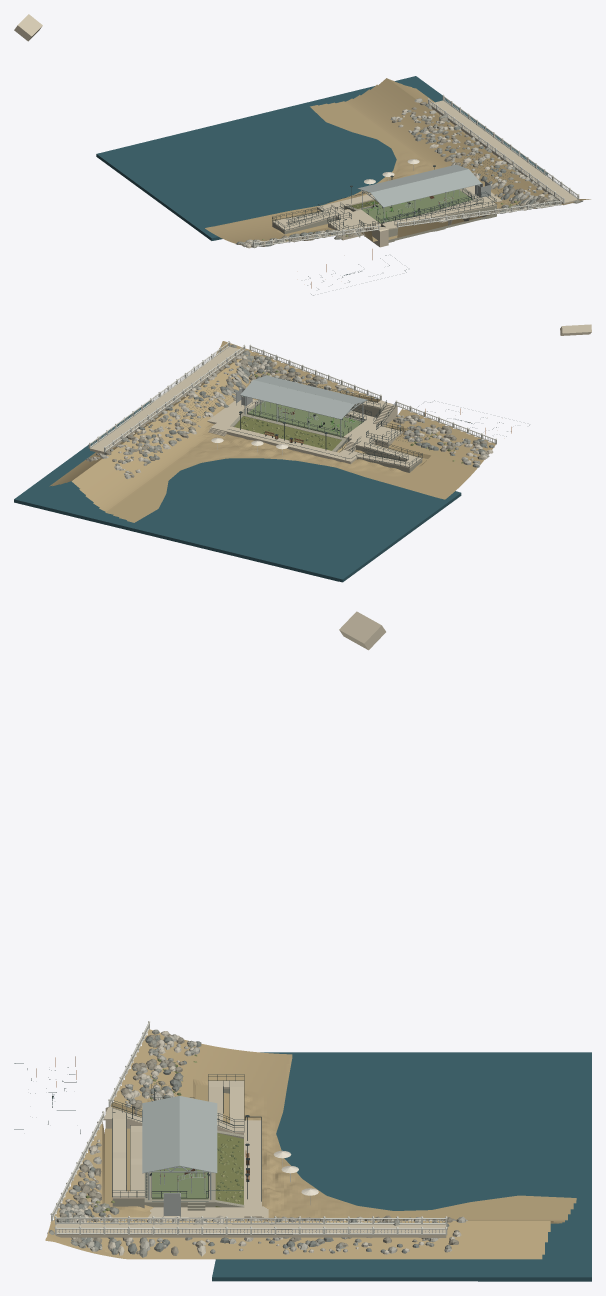
File: location1.glb
3 views of the same model, one above another, from view 1: azimuth 30°, elevation 25°; view 2: azimuth 150°, elevation 25°; view 3: azimuth 270°, elevation 25° (orthographic). The views are drawn at different scales.
Visible parts, largest first — view 1: Море | спокойная поверхность, Рельеф | исправленная береговая се, Каменная наброска | серо-бежевые в, Plane, Мол | длина 55.19 м | +4.00, Ограждения и двойные поручни | про, Спортивная площадка | 22 x 8 м | +2.00, Белая балюстрада | проем общего вх, Белая балюстрада | проем общего, Белая балюстрада | проем общего в, В | прогулочная дорожка | 32 x 2.5 м, А | общая входная площадка; view 2: Море | спокойная поверхность, Рельеф | исправленная береговая се, Каменная наброска | серо-бежевые в, Plane, Мол | длина 55.19 м | +4.00, В | прогулочная дорожка | 32 x 2.5 м, Спортивная площадка | 22 x 8 м | +2.00, Ограждения и двойные поручни | про, Озелененный откос | плавный перехо, Белая балюстрада | проем общего вх, Море | береговая линия по снимку, Белая балюстрада | проем общего (+6 smaller); view 3: Море | спокойная поверхность, Рельеф | исправленная береговая се, Каменная наброска | серо-бежевые в, Plane, Мол | длина 55.19 м | +4.00, В | прогулочная дорожка | 32 x 2.5 м, Белая балюстрада | проем общего в, Белая балюстрада | проем общего, Озелененный откос | плавный перехо, Спортивная площадка | 22 x 8 м | +2.00, А | общая входная площадка, Ограждения и двойные поручни | про (+2 smaller).
Part boxes in pixels (x1,y1,x2,y2): Море | спокойная поверхность: [96, 76, 547, 240]; Рельеф | исправленная береговая се: [205, 78, 590, 246]; Каменная наброска | серо-бежевые в: [236, 98, 582, 248]; Plane: [357, 164, 481, 207]; Мол | длина 55.19 м | +4.00: [430, 100, 577, 205]; Ограждения и двойные поручни | про: [272, 191, 496, 230]; Спортивная площадка | 22 x 8 м | +2.00: [362, 189, 472, 223]; Белая балюстрада | проем общего вх: [253, 199, 561, 247]; Белая балюстрада | проем общего: [442, 94, 579, 199]; Белая балюстрада | проем общего в: [428, 98, 564, 203]; В | прогулочная дорожка | 32 x 2.5 м: [317, 185, 502, 211]; А | общая входная площадка: [14, 14, 42, 41]; Море | спокойная поверхность: [14, 401, 461, 582]; Рельеф | исправленная береговая се: [49, 341, 495, 522]; Каменная наброска | серо-бежевые в: [86, 344, 494, 478]; Plane: [240, 375, 367, 419]; Мол | длина 55.19 м | +4.00: [90, 347, 243, 453]; В | прогулочная дорожка | 32 x 2.5 м: [207, 399, 356, 464]; Спортивная площадка | 22 x 8 м | +2.00: [247, 401, 362, 437]; Ограждения и двойные поручни | про: [274, 377, 422, 467]; Озелененный откос | плавный перехо: [234, 416, 341, 450]; Белая балюстрада | проем общего вх: [249, 344, 496, 444]; Море | береговая линия по снимку: [14, 499, 338, 581]; Белая балюстрада | проем общего: [88, 341, 230, 448]; Море | спокойная поверхность: [212, 1052, 591, 1281]; Рельеф | исправленная береговая се: [45, 1029, 576, 1259]; Каменная наброска | серо-бежевые в: [47, 1029, 467, 1257]; Plane: [142, 1096, 217, 1173]; Мол | длина 55.19 м | +4.00: [55, 1224, 446, 1237]; В | прогулочная дорожка | 32 x 2.5 м: [146, 1120, 261, 1220]; Белая балюстрада | проем общего в: [54, 1216, 447, 1224]; Белая балюстрада | проем общего: [54, 1226, 447, 1235]; Озелененный откос | плавный перехо: [215, 1133, 243, 1207]; Спортивная площадка | 22 x 8 м | +2.00: [152, 1166, 208, 1199]; А | общая входная площадка: [339, 611, 385, 650]; Ограждения и двойные поручни | про: [112, 1074, 244, 1197].
Bounding box in the file's own units: 113 × 51.69 × 81.42.
